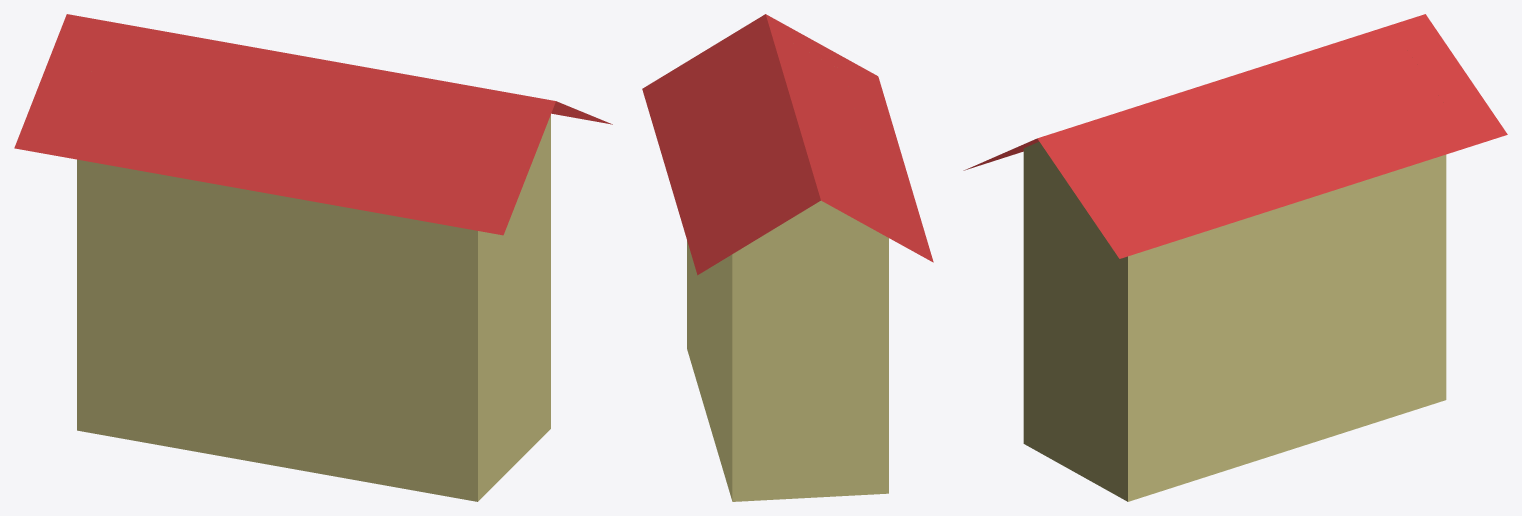
3 views of the same model, side by side, from view 1: azimuth 30°, elevation 25°; view 2: azimuth 150°, elevation 25°; view 3: azimuth 270°, elevation 25° (orthographic). The views are drawn at different scales.
Size of the model in its own units: 8.54 by 9.29 by 6.46.
